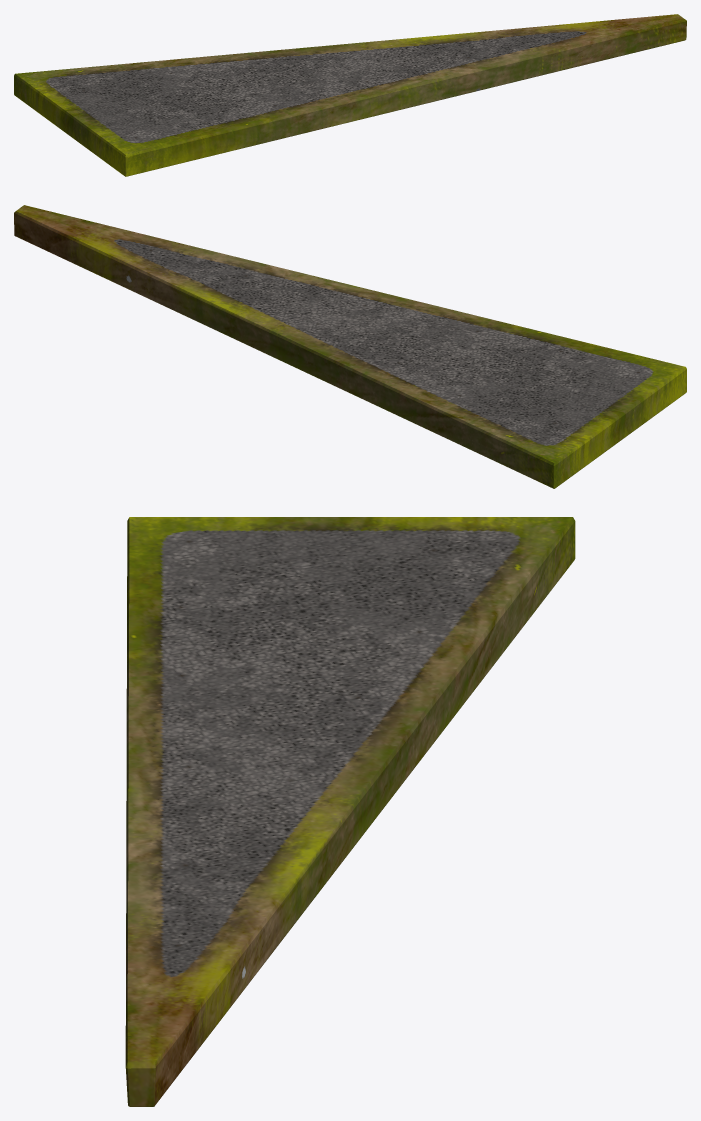
Rendered from PNW Pathway_Curve_18_R_Grip.glb.
3 renders of one model, top to bottom at view 1: azimuth 30°, elevation 25°; view 2: azimuth 150°, elevation 25°; view 3: azimuth 270°, elevation 25°, orthographic. The views are drawn at different scales.
Visible parts, largest first — view 1: Curve_18_R_Grip; view 2: Curve_18_R_Grip; view 3: Curve_18_R_Grip.
Boxes of the visible parts, x1,y1,x2,y2 form: Curve_18_R_Grip: [14, 14, 686, 176]; Curve_18_R_Grip: [14, 205, 686, 488]; Curve_18_R_Grip: [125, 517, 575, 1106].
Size of the model in its own units: 1.52 by 0.057 by 0.5265.
1 material, 1 textured.
